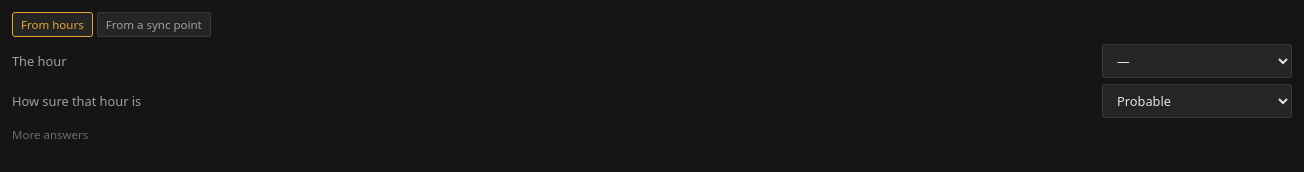
Test case: the hours form, as one mode of the pass › says an undated sync point dates nothing rather than failing quietly
The image size is (1304, 172).
What coordinates should you click on to do the following:
click the button "From a sync point"
I would click on:
 (154, 25)
Its box is [97,12,211,37].
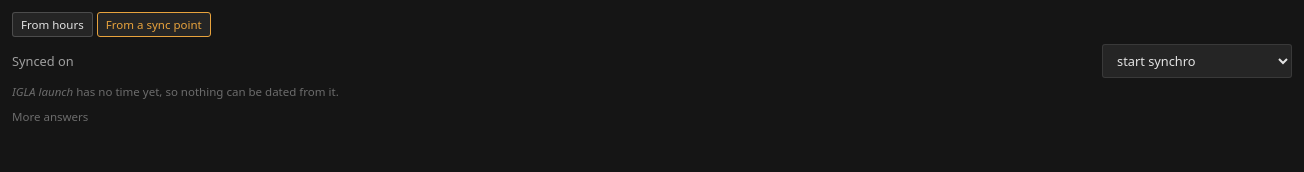
Check: the text "has no time yet, so nothing can be dated from it" is shown, box [73,84,339,99]
